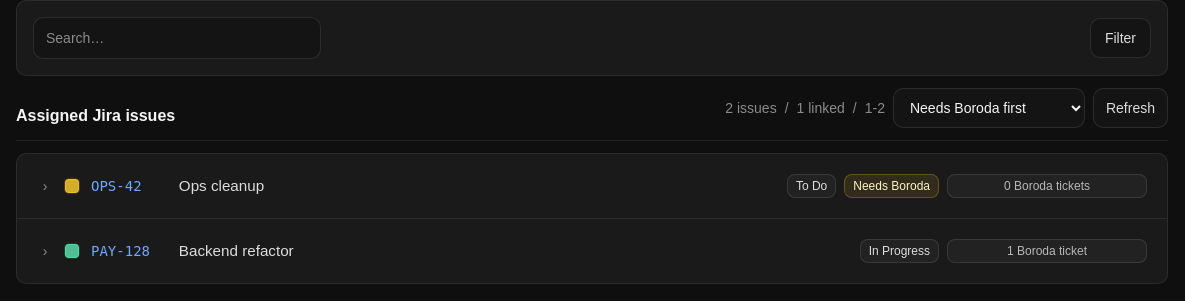
Test case: JiraPage › shows a filtered empty state when search has no matches
The width and height of the screenshot is (1185, 301).
Type "missing" into the search field labelled "Search" at (177, 38), box [33,17,321,59]
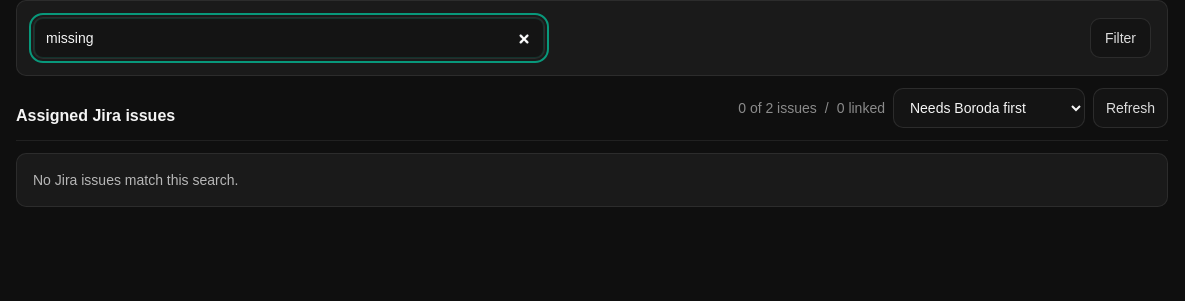
Result: the text "No Jira issues match this search." is shown at [16,153,1168,207]
